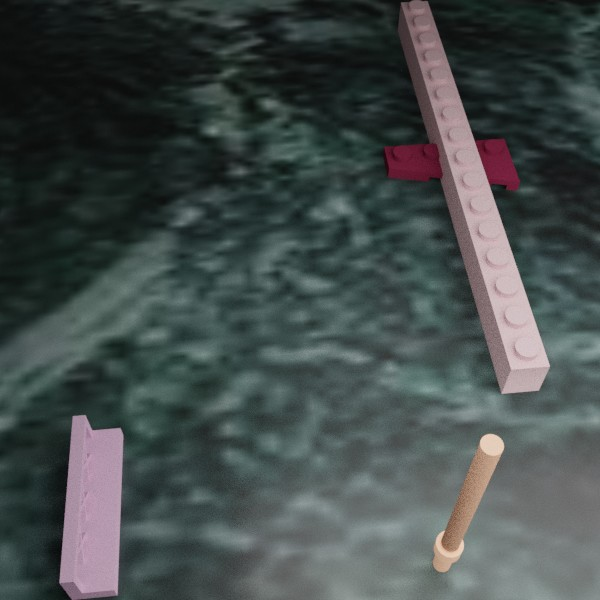lego: (397, 0, 550, 393), (59, 415, 123, 600), (432, 434, 503, 572), (383, 138, 520, 190)
